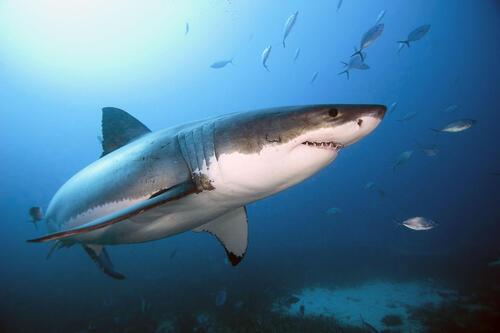shark: (24, 103, 387, 280)
